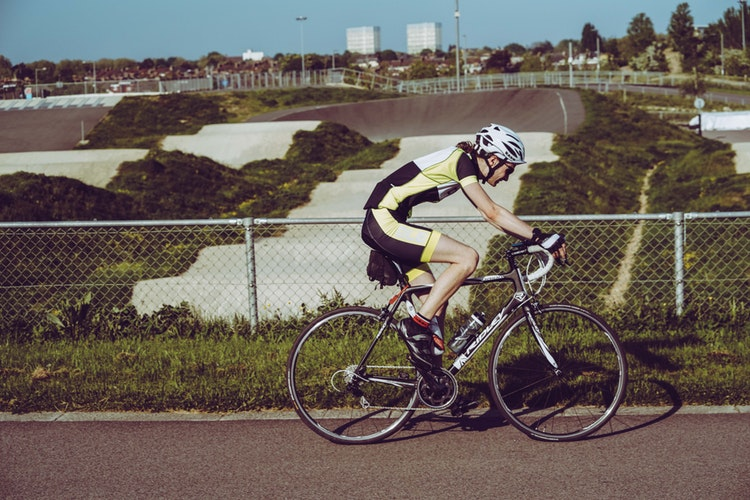helmet: (467, 123, 533, 172)
